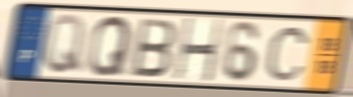6: (220, 19, 262, 85)
B: (129, 16, 179, 79)
C: (264, 25, 311, 83)
H: (172, 16, 226, 85)
Q: (85, 13, 134, 78), (40, 12, 88, 77)
